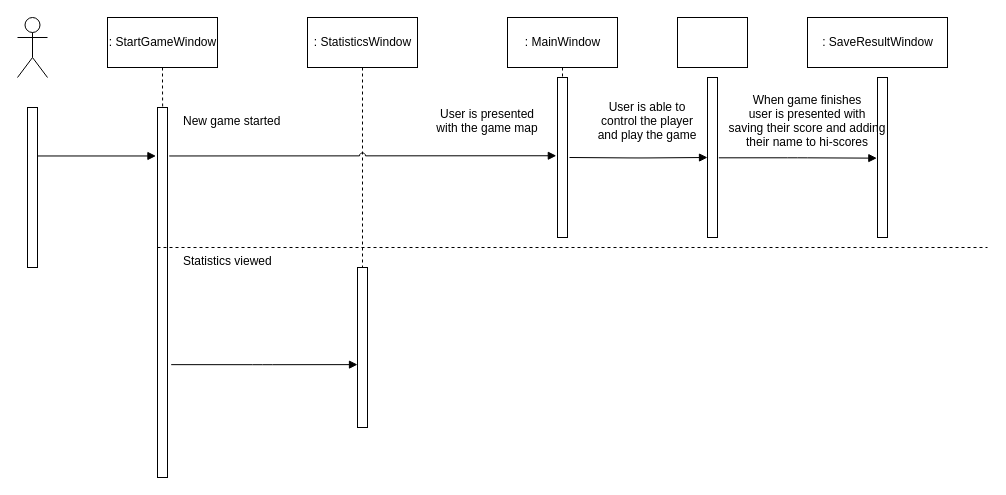
The diagram is 1006 pixels wide and 495 high, and some of its shapes have lost their labels. The shapes that lost their labels are listed below. From the top down, each one's box as (x1, y1, x2, y2) in pixels, then its label:
(16, 16, 48, 78): User
(676, 16, 748, 68): : Control
